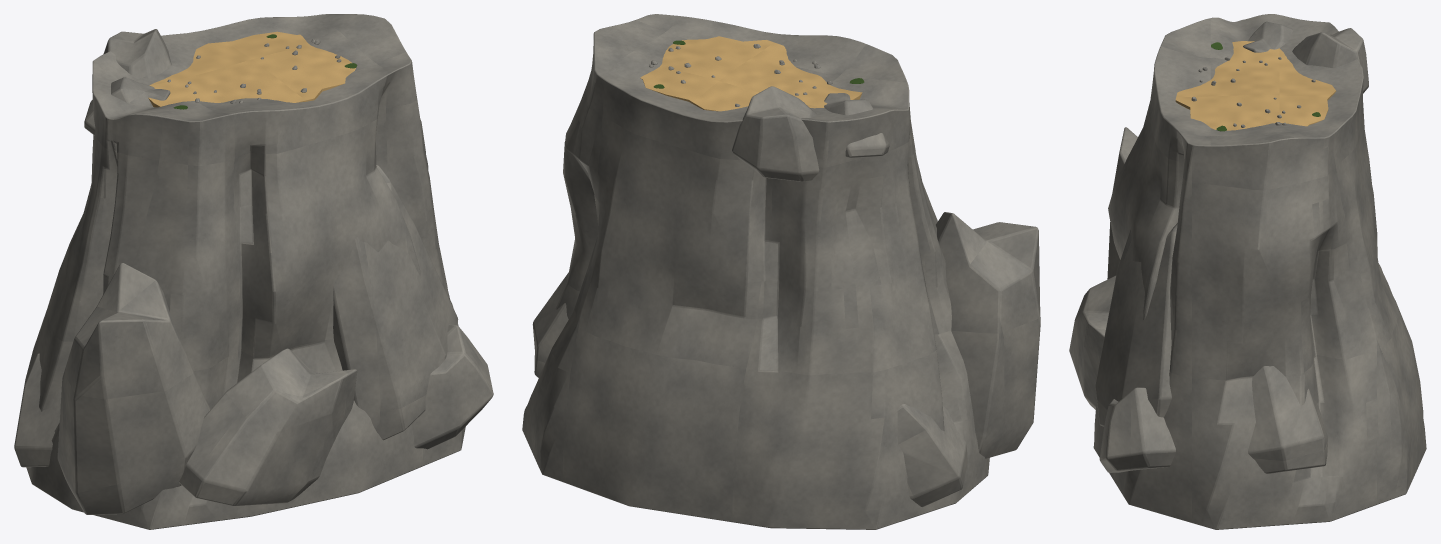
The model's file is cliff-v2-batched.glb.
3 views of the same model, side by side, from view 1: azimuth 30°, elevation 25°; view 2: azimuth 150°, elevation 25°; view 3: azimuth 270°, elevation 25° (orthographic). The views are drawn at different scales.
Visible parts, largest first — view 1: Batched_0_CliffV2_PBR_Grey_Eroded_Stone, Batched_2_CliffV2_PBR_Tropical_Sandy_Infill; view 2: Batched_0_CliffV2_PBR_Grey_Eroded_Stone, Batched_2_CliffV2_PBR_Tropical_Sandy_Infill; view 3: Batched_0_CliffV2_PBR_Grey_Eroded_Stone, Batched_2_CliffV2_PBR_Tropical_Sandy_Infill.
Part boxes in pixels (bbox=[...]): Batched_0_CliffV2_PBR_Grey_Eroded_Stone: bbox=[14, 14, 493, 529]; Batched_2_CliffV2_PBR_Tropical_Sandy_Infill: bbox=[148, 31, 355, 107]; Batched_0_CliffV2_PBR_Grey_Eroded_Stone: bbox=[522, 14, 1040, 529]; Batched_2_CliffV2_PBR_Tropical_Sandy_Infill: bbox=[640, 36, 862, 111]; Batched_0_CliffV2_PBR_Grey_Eroded_Stone: bbox=[1069, 14, 1426, 529]; Batched_2_CliffV2_PBR_Tropical_Sandy_Infill: bbox=[1175, 41, 1336, 130].
Size of the model in its own units: 7.99 by 6.98 by 5.99.
Materials: 3 (2 with a texture image).
